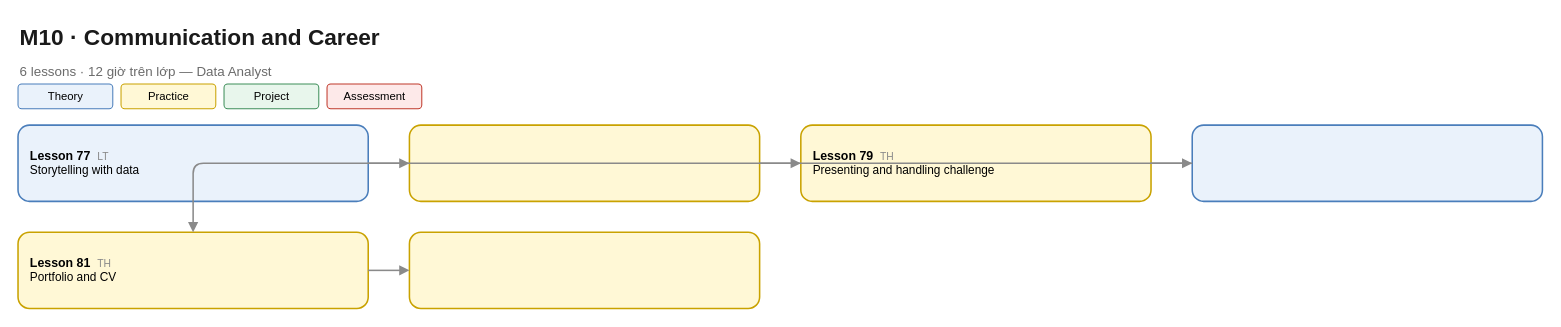
Some shapes in this 1561 by 327 pixel diagram are drawn without their labels. Here are the shapes that lost their labels. From the top down, the centre of each, then its label:
At (x=584, y=163): "Lesson 78 TH Writing an analytical report".
At (x=1367, y=163): "Lesson 80 LT Operating as a Data Analyst".
At (x=584, y=270): "Lesson 82 TH Data Analyst interviews".
